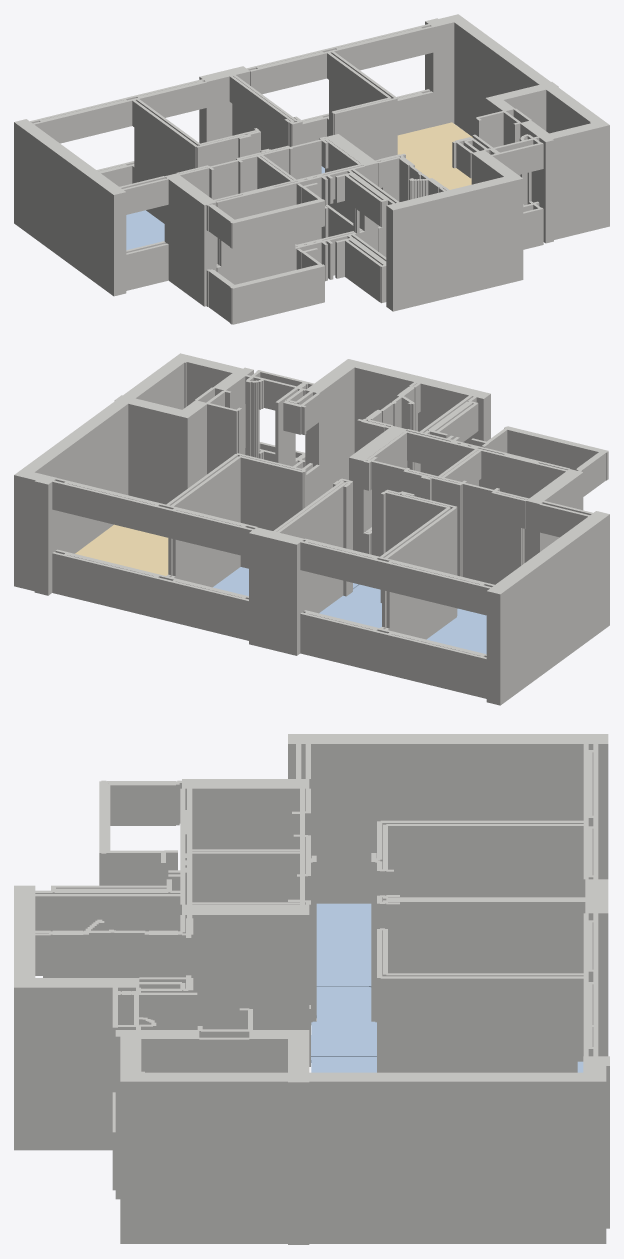
3 renders of one model, top to bottom at view 1: azimuth 30°, elevation 25°; view 2: azimuth 150°, elevation 25°; view 3: azimuth 270°, elevation 25°, orthographic. The views are drawn at different scales.
Parts seen in each view (by area): view 1: walls, room:living:1, room:bedroom:9; view 2: walls, room:living:1, room:bedroom:0, room:bedroom:9, room:bedroom:2; view 3: walls, room:bedroom:9, room:bedroom:0, room:bedroom:2.
Boxes of the visible parts, bbox=[...] form: walls: bbox=[14, 14, 609, 324]; room:living:1: bbox=[397, 122, 472, 189]; room:bedroom:9: bbox=[126, 210, 164, 250]; walls: bbox=[14, 353, 609, 705]; room:living:1: bbox=[75, 524, 168, 575]; room:bedroom:0: bbox=[319, 584, 457, 627]; room:bedroom:9: bbox=[426, 608, 486, 654]; room:bedroom:2: bbox=[213, 567, 359, 596]; walls: bbox=[14, 734, 609, 1244]; room:bedroom:9: bbox=[316, 903, 371, 986]; room:bedroom:0: bbox=[311, 986, 376, 1056]; room:bedroom:2: bbox=[311, 1057, 583, 1072].
Bounding box in the file's own units: 12.86 × 2.8 × 9.3.
